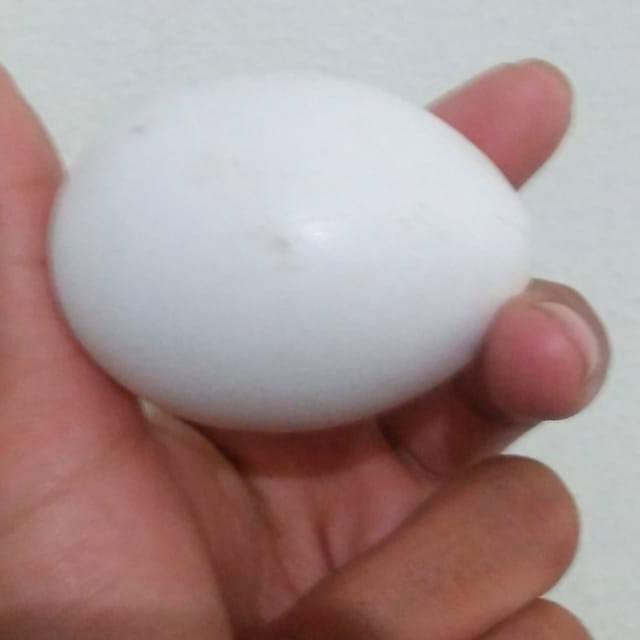egg: (43, 62, 536, 437)
